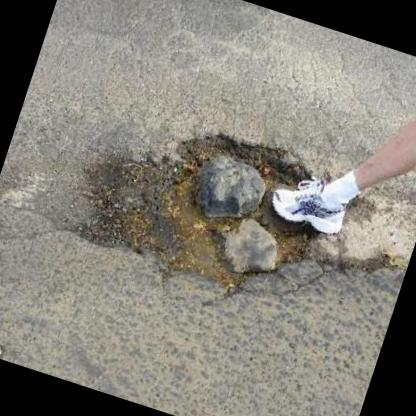pothole: (60, 90, 344, 314)
